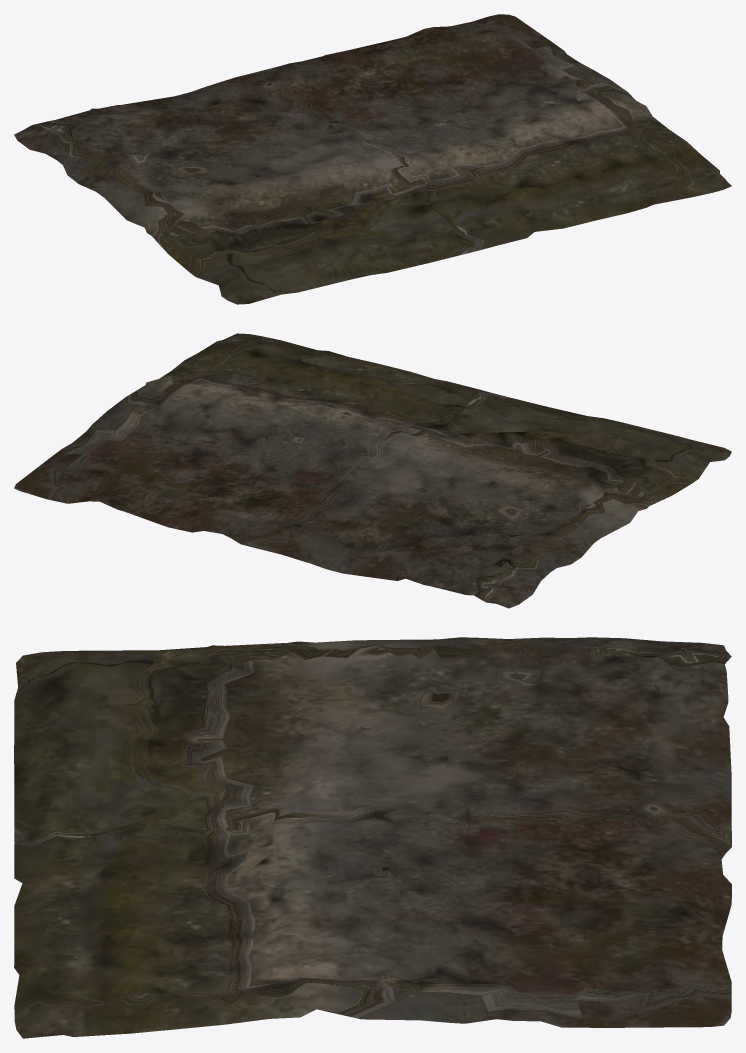
File: coast_line_01_lod2.glb
The picture shows the model from 3 angles, top to bottom: view 1: azimuth 30°, elevation 25°; view 2: azimuth 150°, elevation 25°; view 3: azimuth 270°, elevation 25°; orthographic projection. The views are drawn at different scales.
Parts seen in each view (by area): view 1: coast_line_01; view 2: coast_line_01; view 3: coast_line_01.
Part boxes in pixels (x1,y1,x2,y2): coast_line_01: (14,14,731,304); coast_line_01: (14,333,731,608); coast_line_01: (14,637,731,1038).
Bounding box in the file's own units: 54.56 × 2.51 × 42.92.
Materials: 1 (1 with a texture image).
